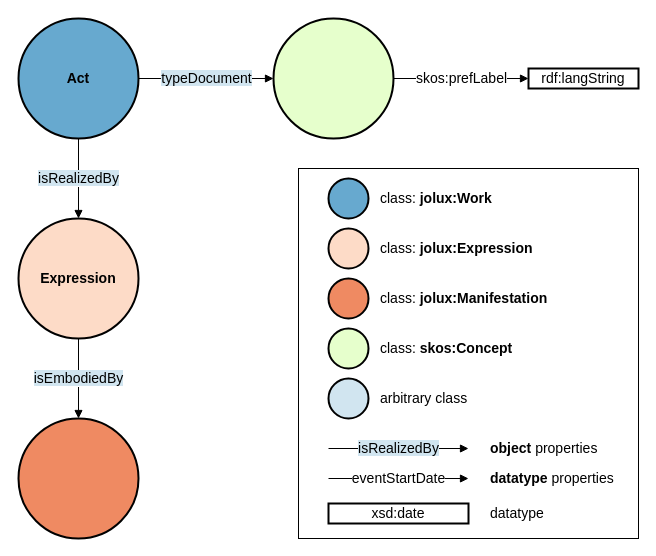
The diagram is 656 pixels wide and 556 high, and some of its shapes have lost their labels. The box of each missing label's shape, as (x1, y1, x2, y2) in pixels:
Manifestation: (17, 417, 139, 539)
ResourceType: (272, 17, 394, 139)
